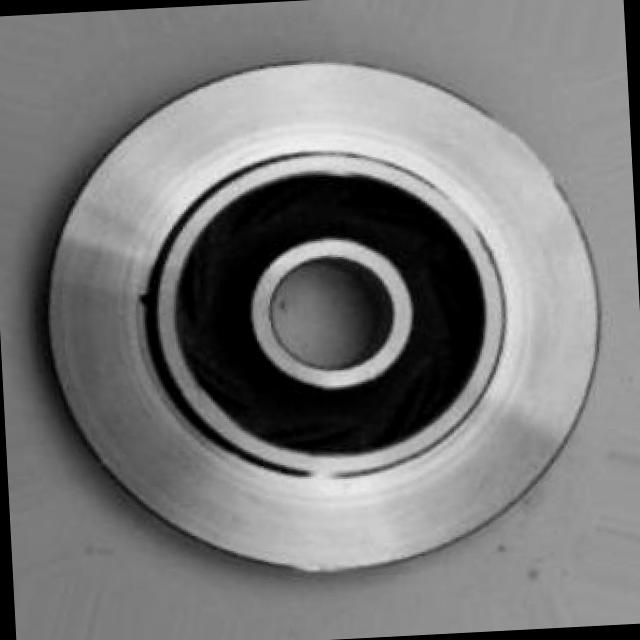Defect: (137, 292, 155, 311)
